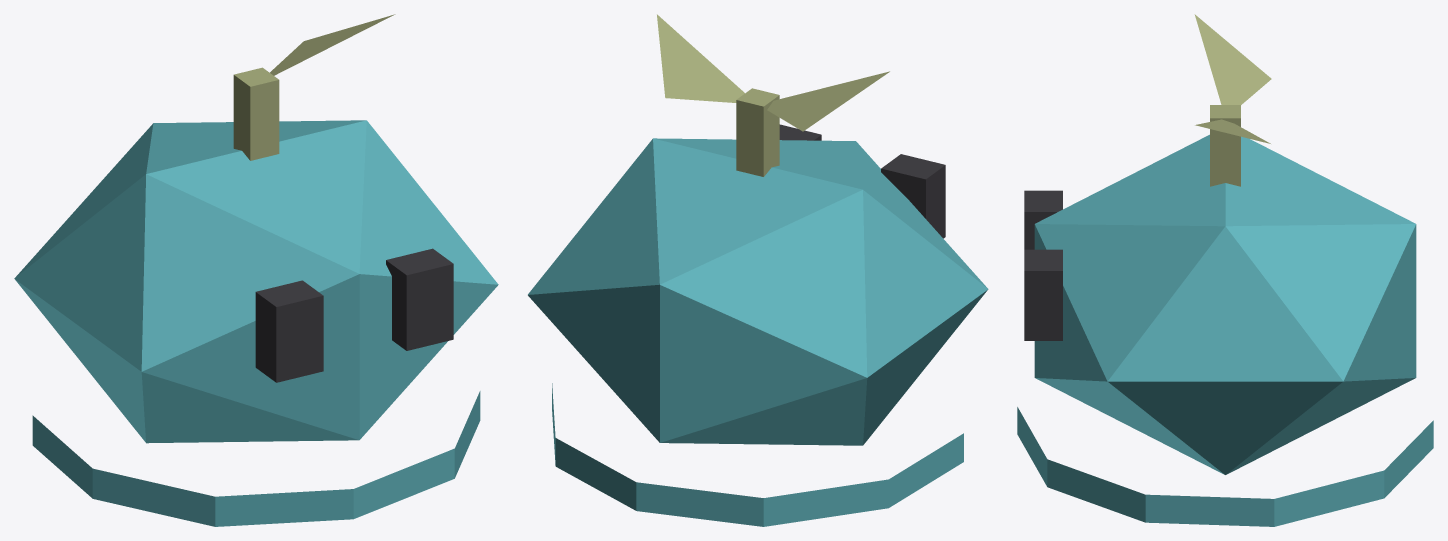
Rendered from slime.glb.
3 renders of one model, left to right at view 1: azimuth 30°, elevation 25°; view 2: azimuth 150°, elevation 25°; view 3: azimuth 270°, elevation 25°, orthographic. The views are drawn at different scales.
Parts seen in each view (by area): view 1: slime; view 2: slime; view 3: slime.
Part boxes in pixels (box(x1,y1,x2,y2)): slime: box(14, 14, 498, 526); slime: box(528, 14, 988, 526); slime: box(1017, 14, 1433, 526).
Size of the model in its own units: 0.5251 by 0.53 by 0.5383.
